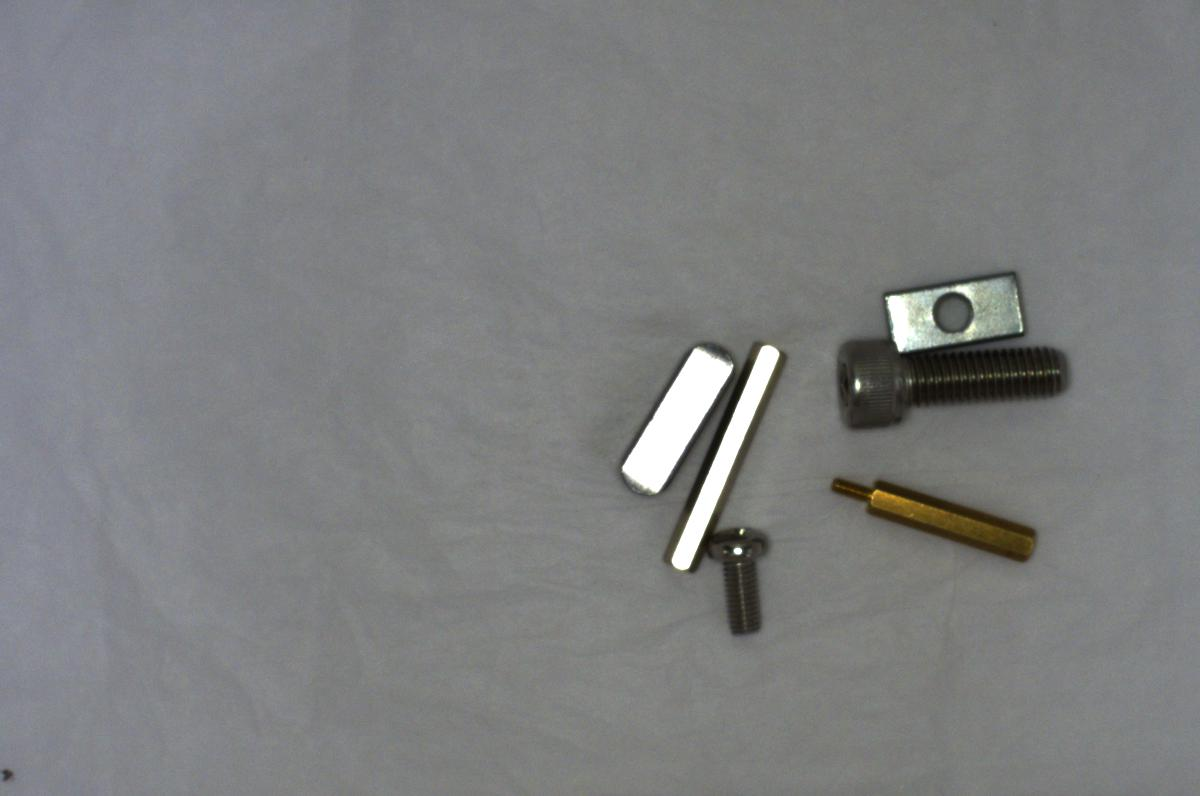Double hexagonal column: (653, 332, 789, 578)
Hexagon pillar: (817, 471, 1046, 572)
Hexagon screw: (824, 327, 1083, 437)
Keybar: (606, 332, 746, 501)
Rectangular nut: (880, 258, 1029, 362)
Round head screw: (705, 514, 773, 644)
